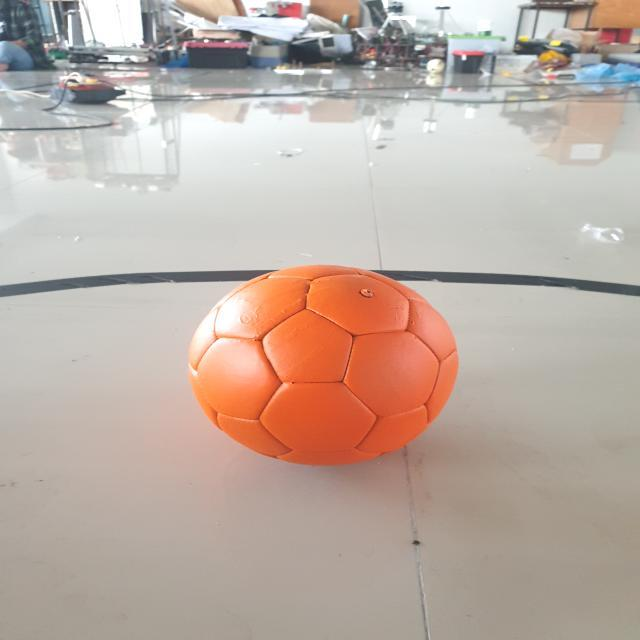bola: (190, 260, 462, 473)
